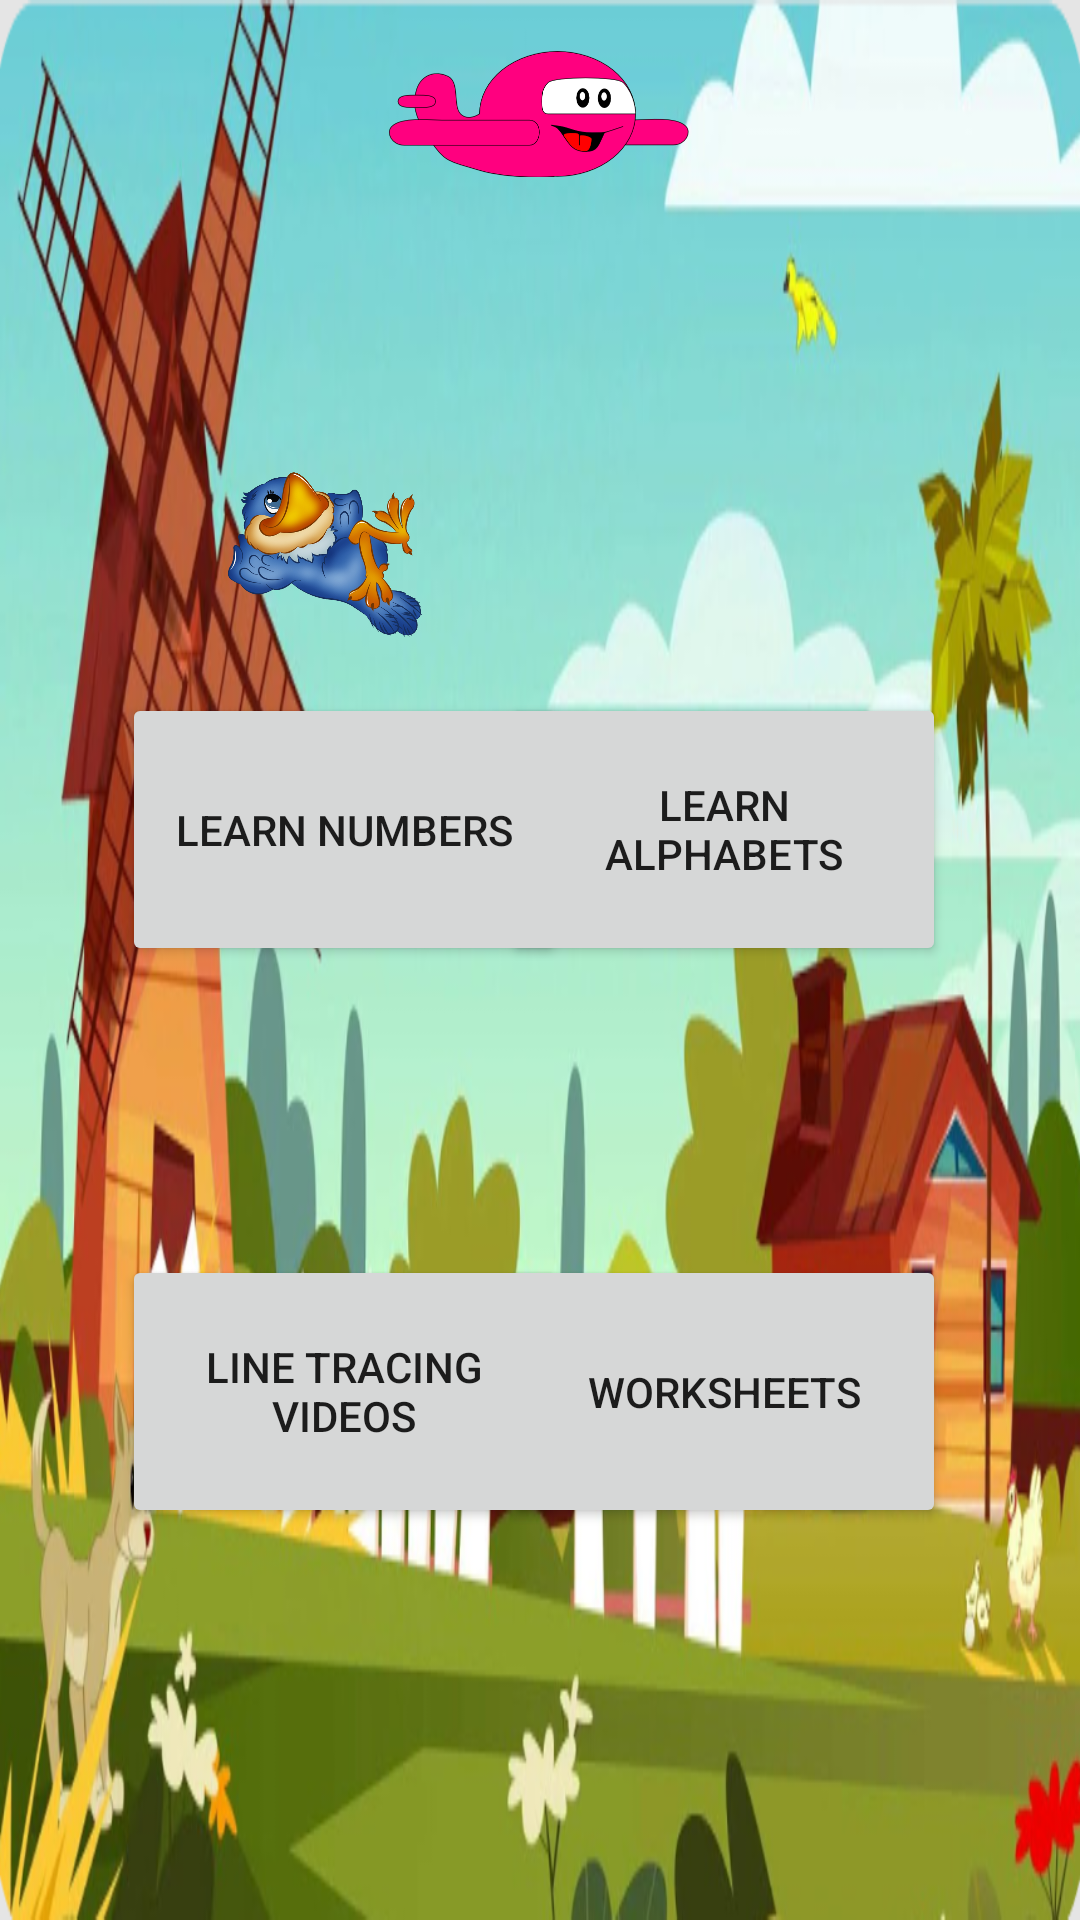

Named icons in this screenshot (1080 × 1920) and their bounding boxes, [x1=x1, y1=y1, x2=x2, y2=y2]:
bird: [x1=205, y1=472, x2=422, y2=637]
plane: [x1=389, y1=0, x2=689, y2=214]
